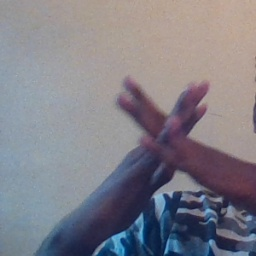W: (102, 65, 233, 213)
